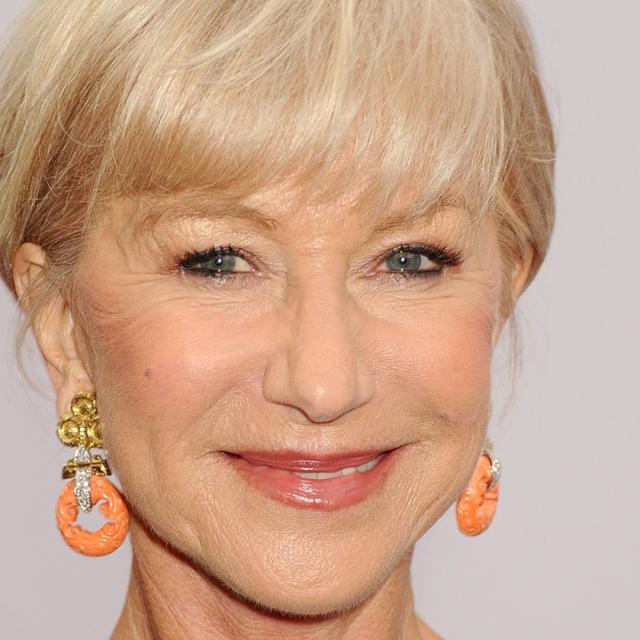Normal: (71, 182, 500, 622)
